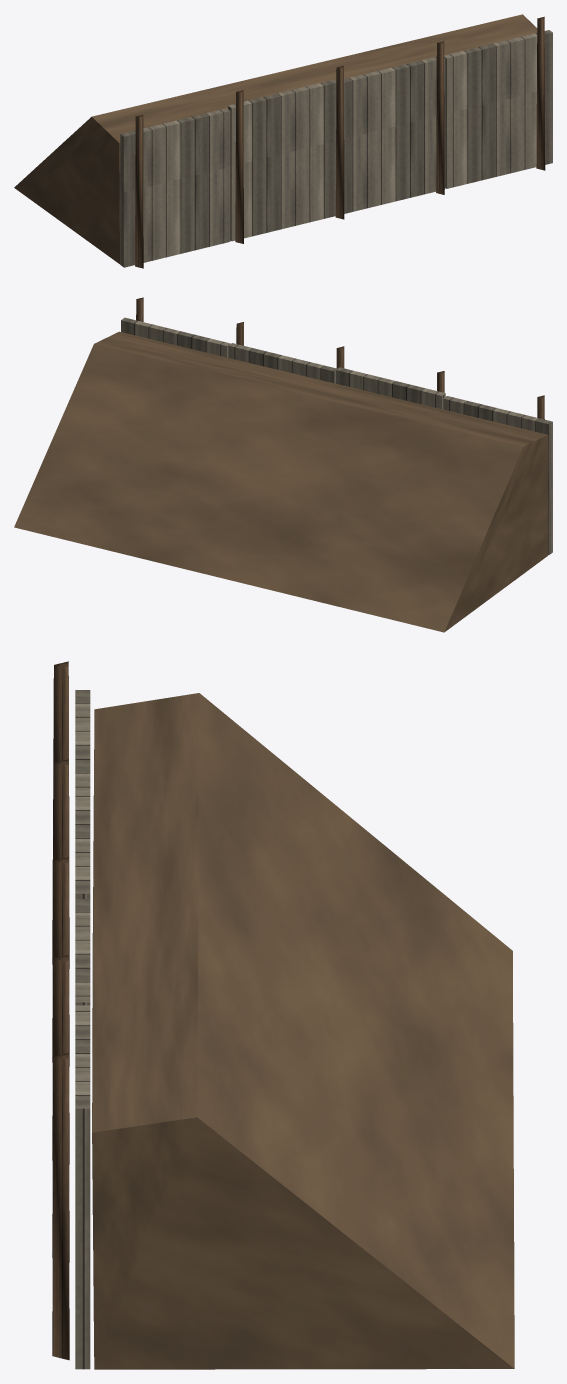
Rendered from Earthwork_Plank_1_LOD2.gltf.
3 renders of one model, top to bottom at view 1: azimuth 30°, elevation 25°; view 2: azimuth 150°, elevation 25°; view 3: azimuth 270°, elevation 25°, orthographic. The views are drawn at different scales.
Visible parts, largest first — view 1: Earthwork_Plank_1_LOD2; view 2: Earthwork_Plank_1_LOD2; view 3: Earthwork_Plank_1_LOD2.
Part boxes in pixels (x1,y1,x2,y2): Earthwork_Plank_1_LOD2: [14, 14, 552, 268]; Earthwork_Plank_1_LOD2: [14, 297, 552, 632]; Earthwork_Plank_1_LOD2: [52, 661, 514, 1369].
Bounding box in the file's own units: 6.02 × 2 × 2.8.
3 materials, 3 textured.
